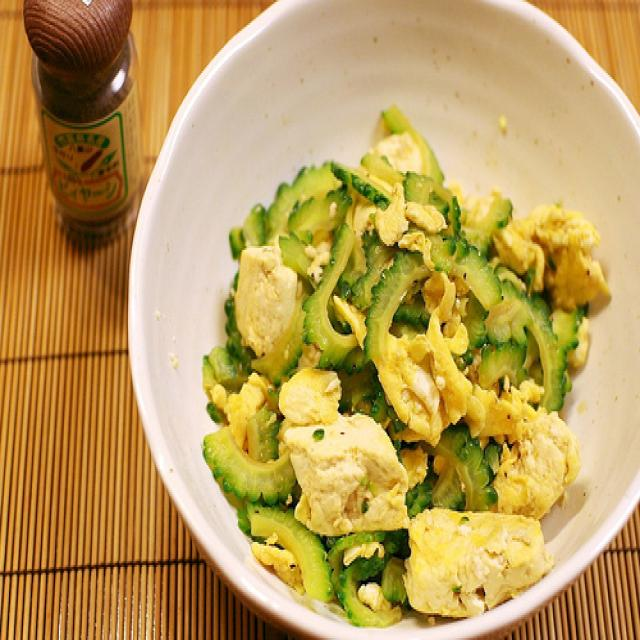熟制海鲜: (132, 0, 640, 640)
